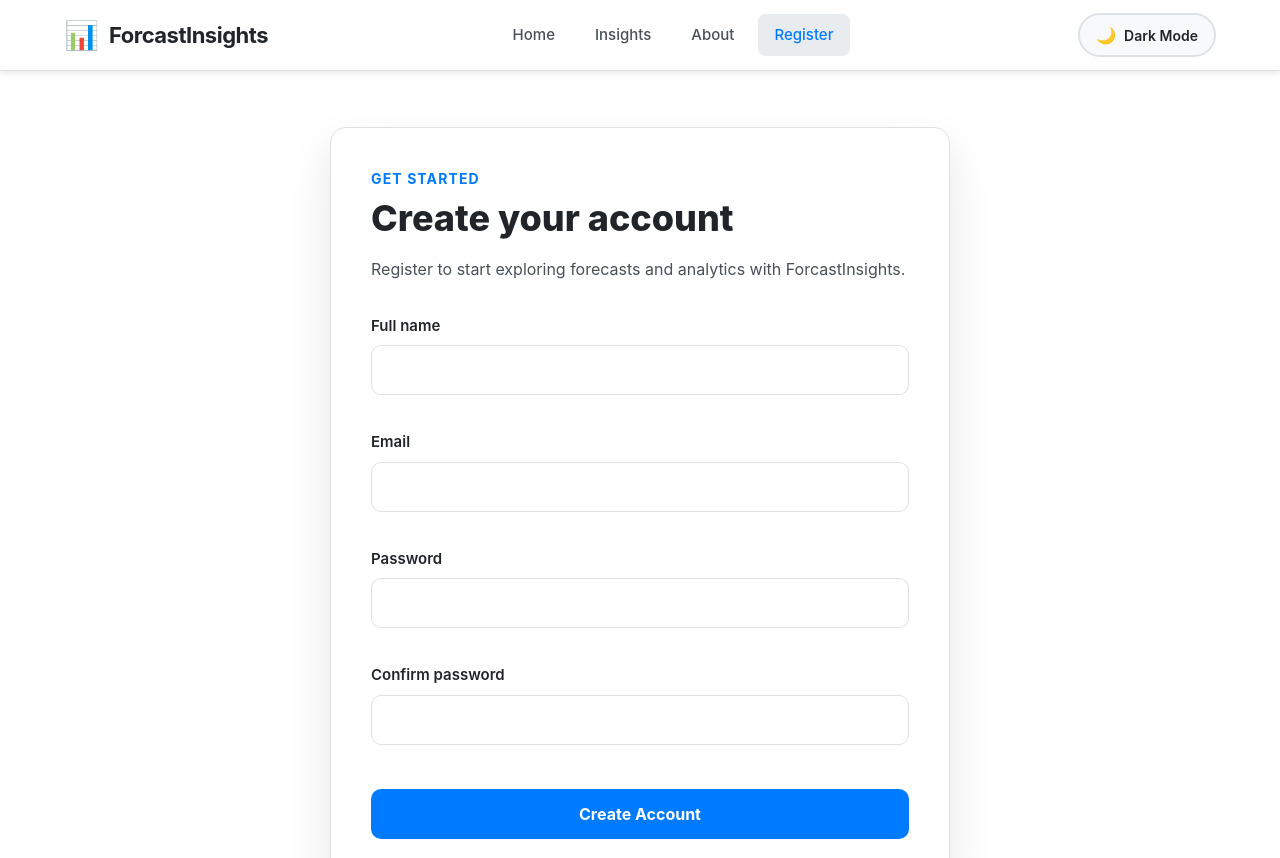
Scenario: Register › focuses the first invalid field and exposes submission errors
Click the button "Create Account".
click(640, 814)  # box [371,789,909,839]
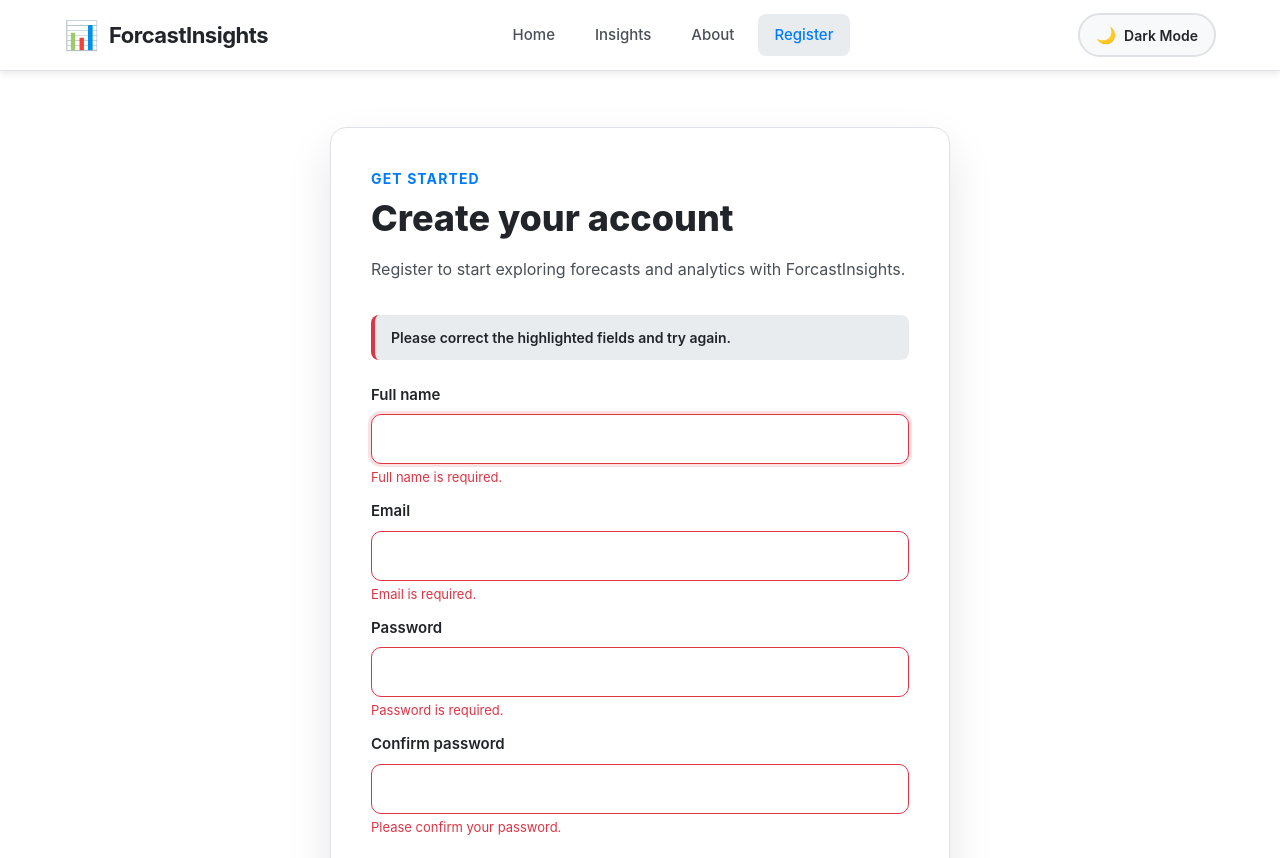
expect the message shows "Please correct the highlighted fields": met, box [391,329,731,346]
expect the text "Full name is required." is shown: met, box [371,469,502,485]
